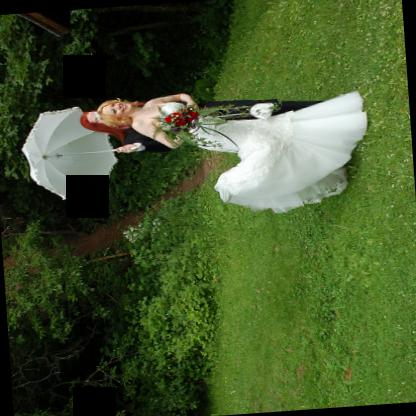handbag: (212, 102, 276, 119)
